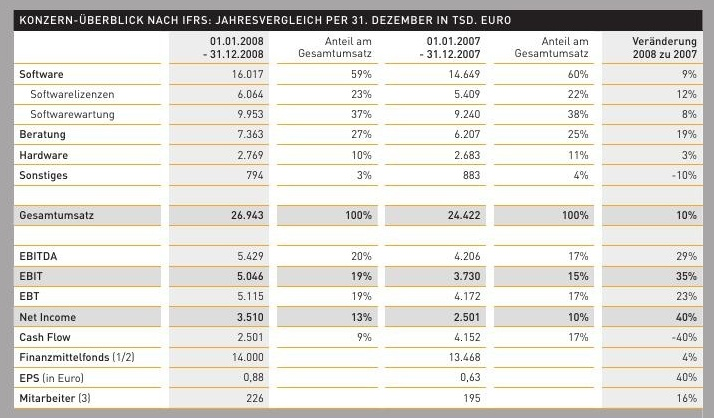table: (0, 0, 714, 418)
